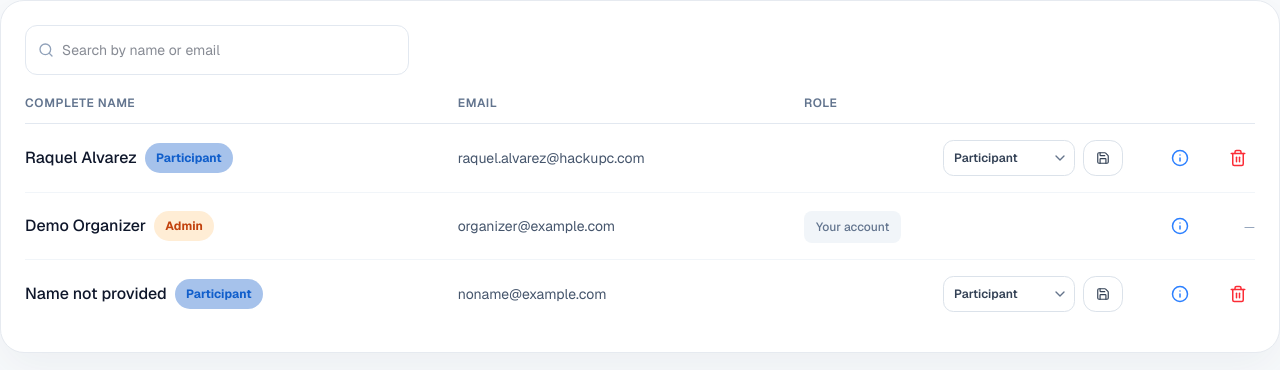
Scenario: UsersTable › filters as you type, matching by email
Type "hackupc" into the search field named "Search users by name or email". click: {"x": 229, "y": 50}
box: [62,26,396,74]
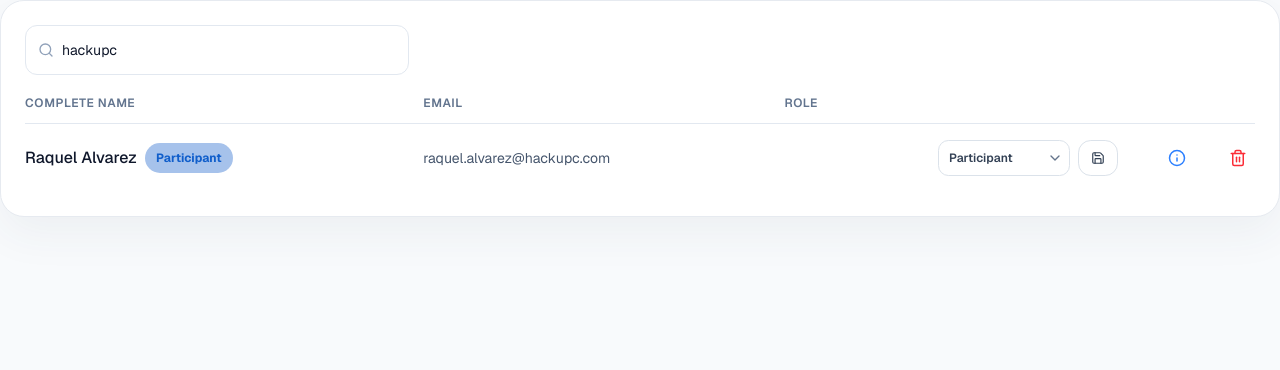
Check: the text "Raquel Alvarez" is shown, box [25,146,137,170]
Check: the text "Demo Organizer" is gone
Check: the text "Name not provided" is gone
